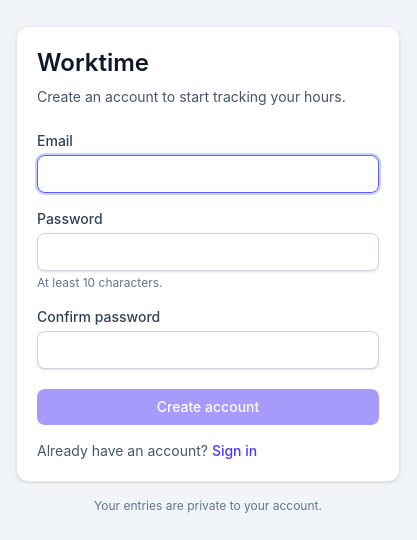
Test: register › blocks a mistyped confirmation
Type "me@example.com" into the field labelled "Email" at (208, 174), box [37,155,379,193]
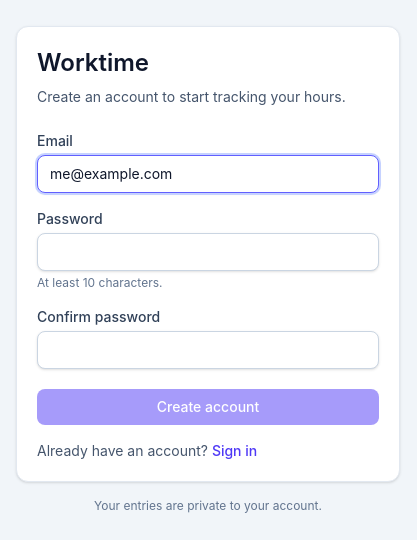
Type "a long enough password" into the password field labelled "Password" at (208, 252), box [37,233,379,271]
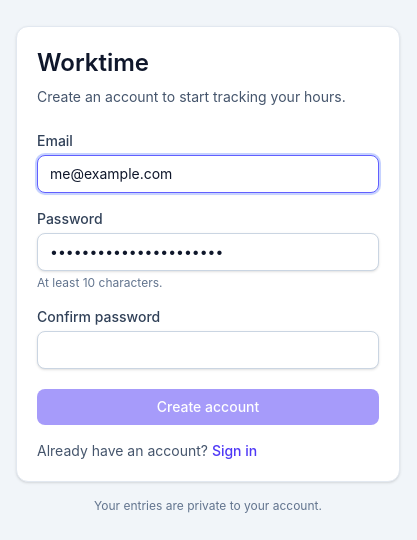
Type "a long enough passwrod" into the password field labelled "Confirm password" at (208, 350), box [37,331,379,369]
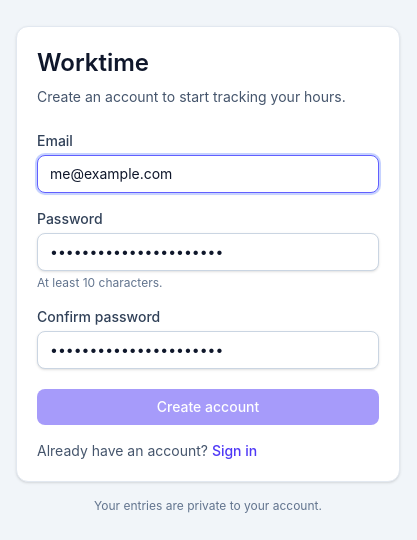
Leave the password field labelled "Confirm password", box [37,331,379,369]
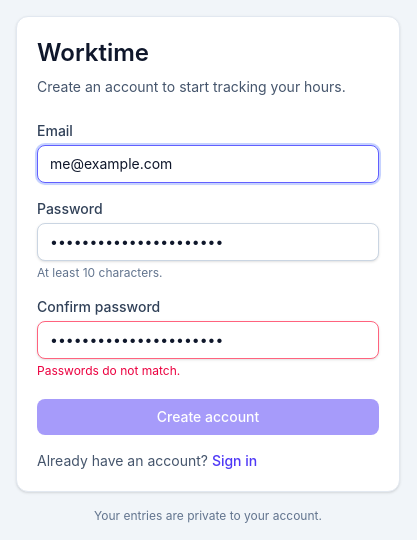
expect the button "Create account" is disabled: met, box [37,399,379,435]
expect the text "Passwords do not match." is shown: met, box [37,363,180,378]
